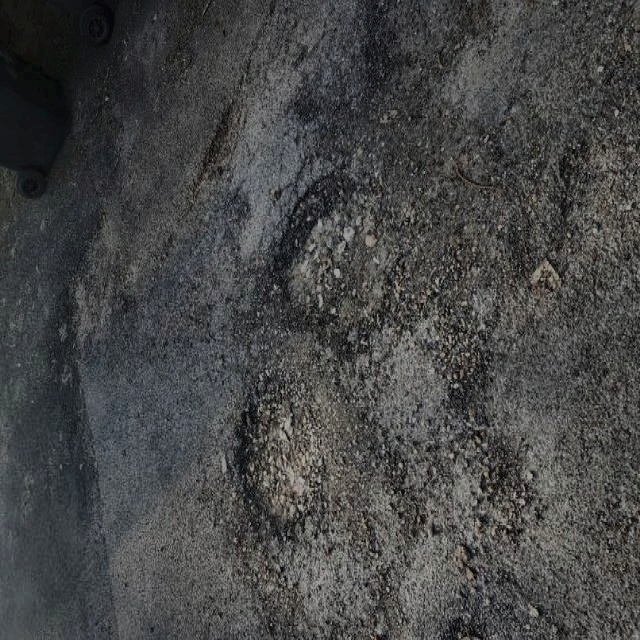Pothole: (272, 160, 400, 346), (227, 351, 333, 545)
